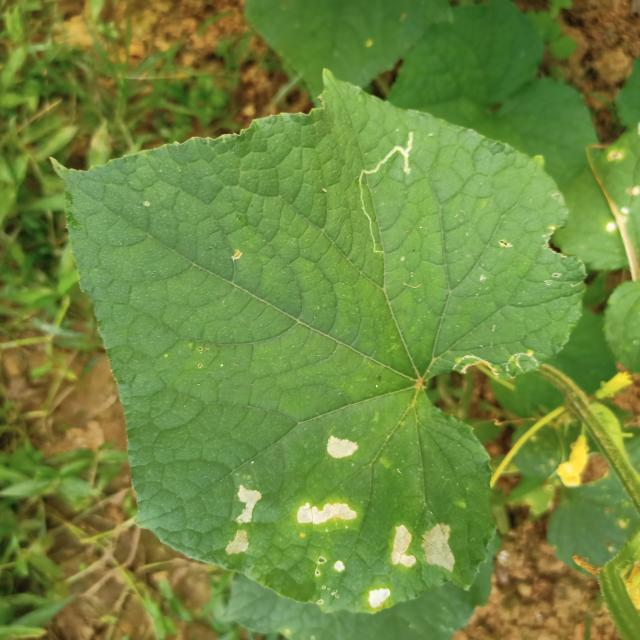disease_cucumber: (286, 493, 460, 613), (222, 478, 260, 562), (324, 429, 363, 466)
